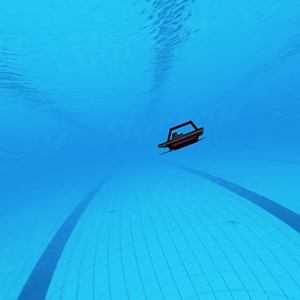submarine: (158, 119, 204, 152)
